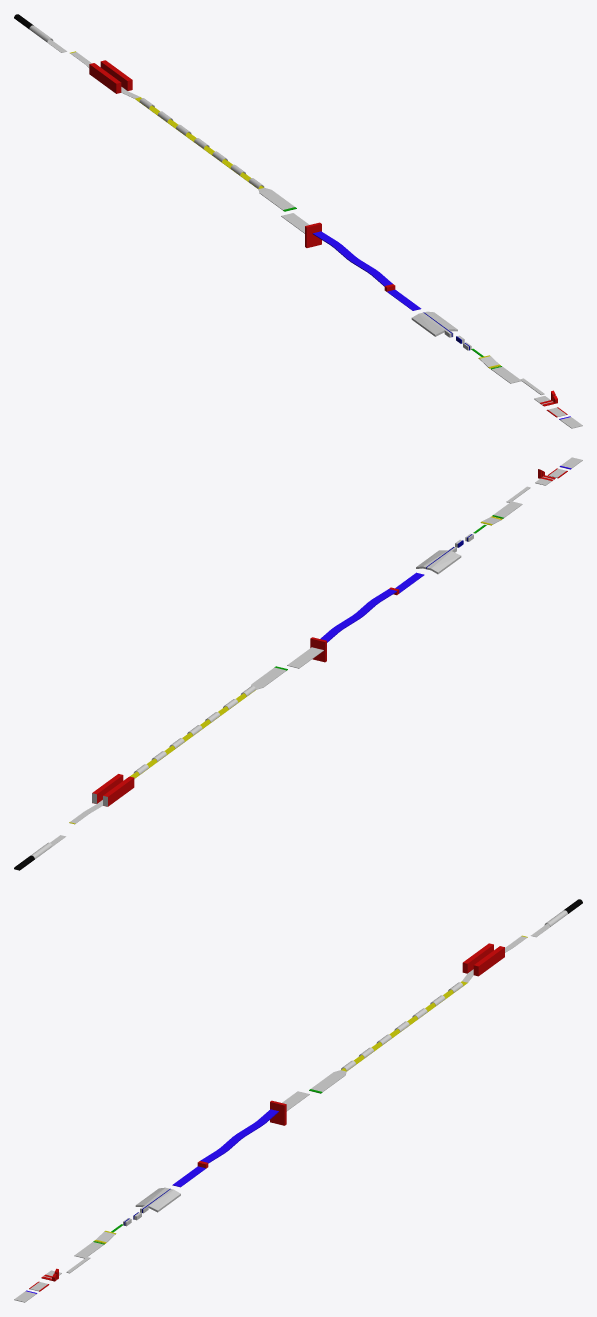
File: road5.obj
3 renders of one model, top to bottom at view 1: azimuth 30°, elevation 25°; view 2: azimuth 150°, elevation 25°; view 3: azimuth 330°, elevation 25°, orthographic. The views are drawn at different scales.
Parts seen in each view (by area): view 1: Cube; view 2: Cube; view 3: Cube.
Boxes of the visible parts, x1,y1,x2,y2 form: Cube: (14, 14, 582, 428); Cube: (14, 457, 582, 870); Cube: (14, 899, 582, 1302).
Size of the model in its own units: 16.05 by 13.96 by 622.
